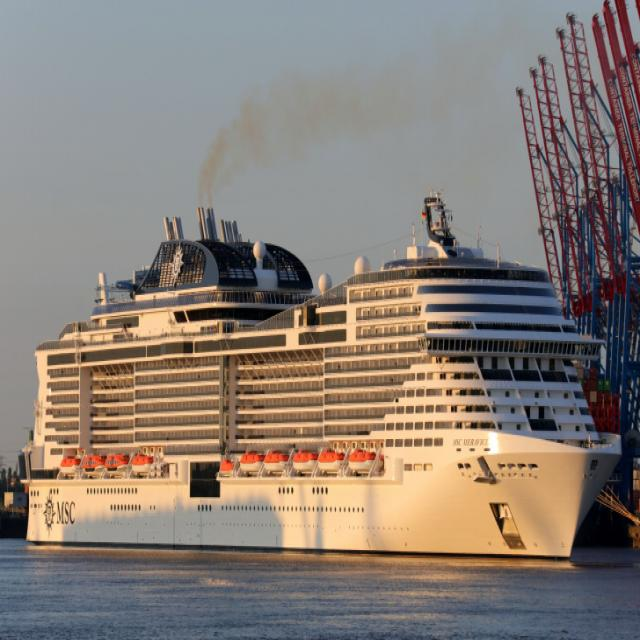cruises: (20, 186, 625, 568)
